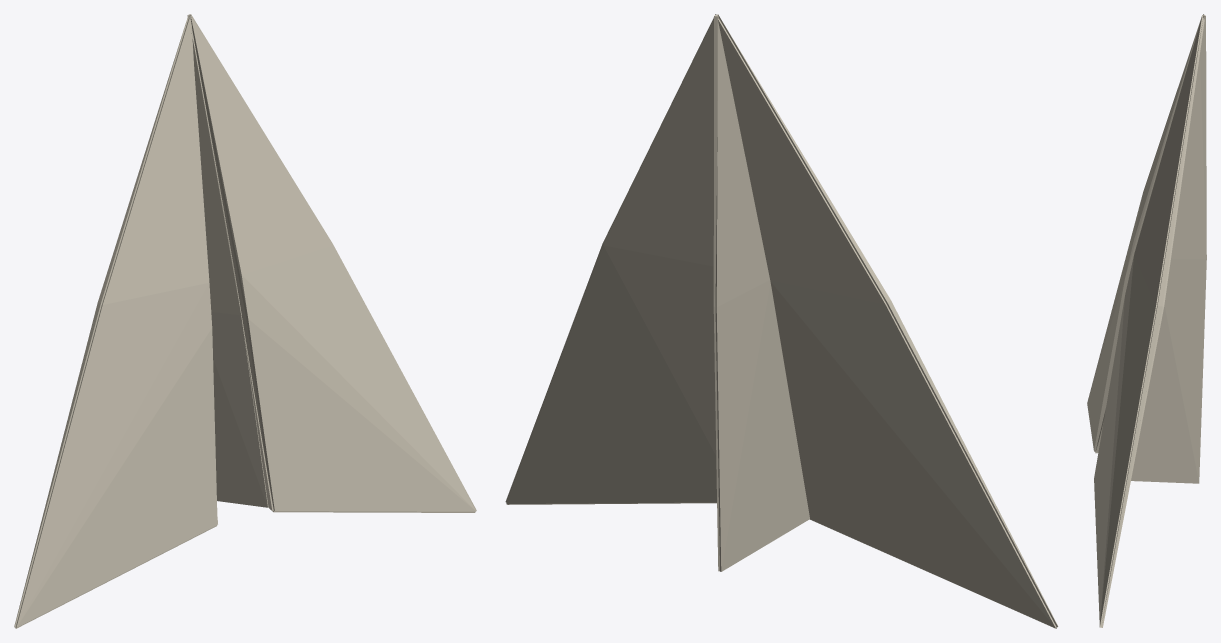
File: pilot.glb
3 renders of one model, left to right at view 1: azimuth 30°, elevation 25°; view 2: azimuth 150°, elevation 25°; view 3: azimuth 270°, elevation 25°, orthographic. The views are drawn at different scales.
Visible parts, largest first — view 1: Pilot; view 2: Pilot; view 3: Pilot.
Part boxes in pixels (left/top/right/bottom): Pilot: left=14, top=14, right=476, bottom=628; Pilot: left=505, top=14, right=1058, bottom=628; Pilot: left=1087, top=14, right=1206, bottom=627.
Size of the model in its own units: 1.01 by 1.06 by 0.2282.
